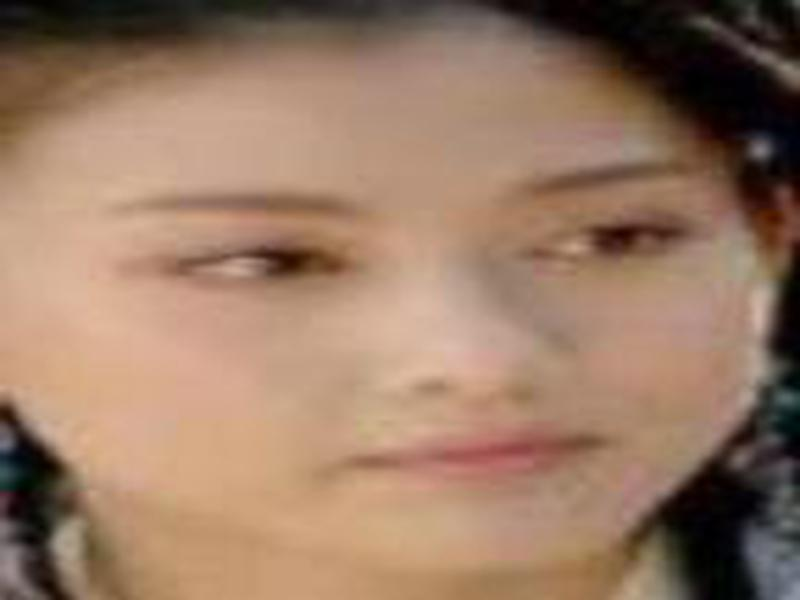without_mask: (2, 25, 765, 568)
